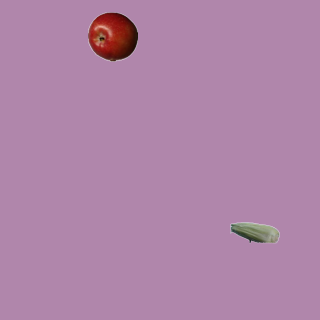Apple Braeburn: (87, 11, 137, 61)
Corn Husk: (229, 207, 279, 257)
